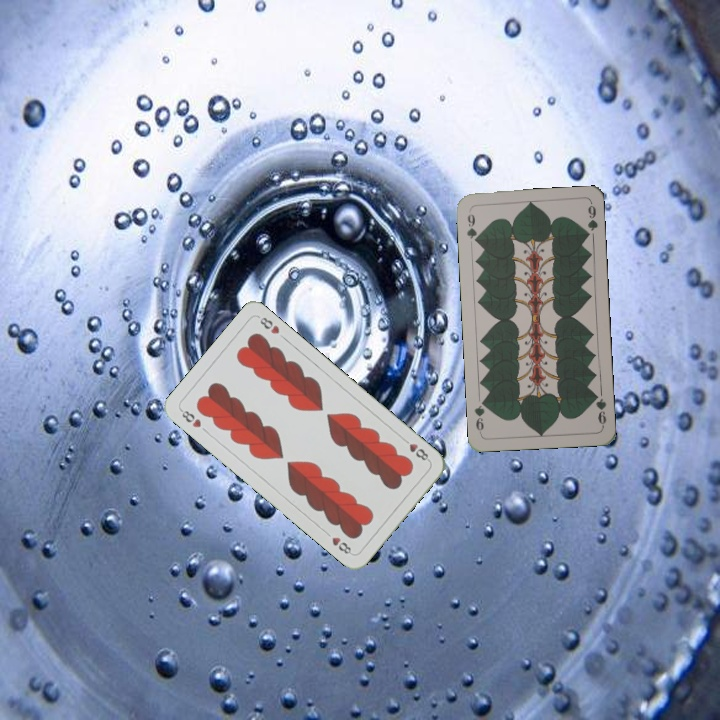G9: (590, 389, 609, 429), (463, 207, 480, 246)
H8: (398, 434, 432, 464), (176, 405, 204, 430)
